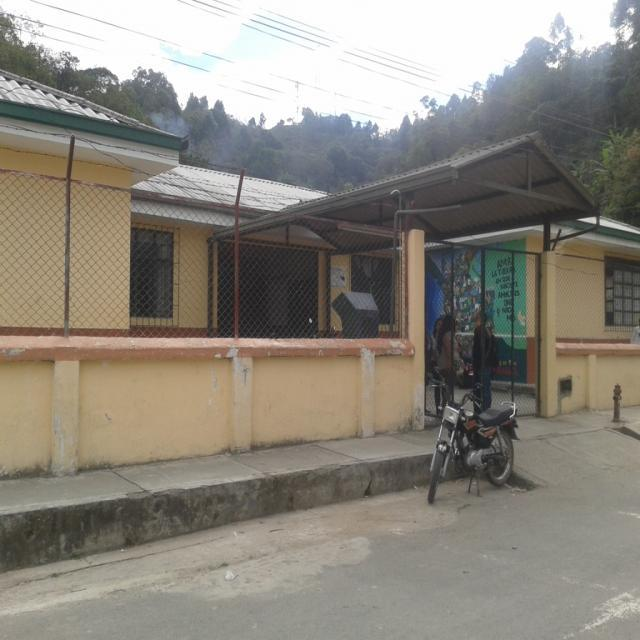bus: (421, 380, 527, 503)
